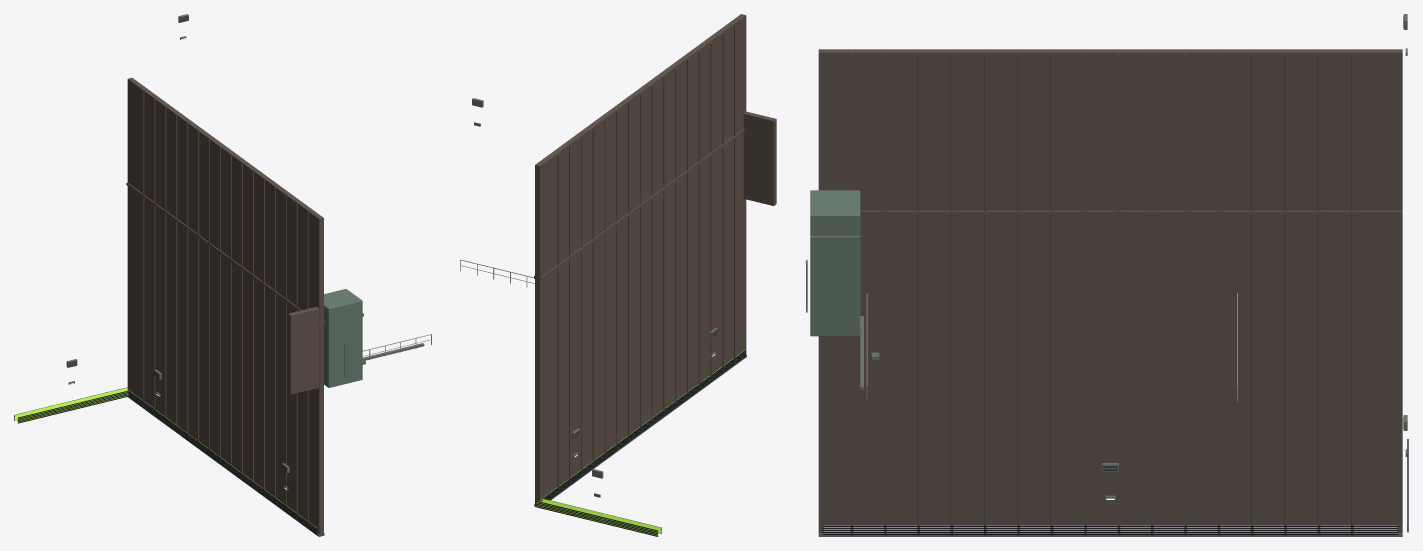
3 renders of one model, left to right at view 1: azimuth 30°, elevation 25°; view 2: azimuth 150°, elevation 25°; view 3: azimuth 270°, elevation 25°, orthographic. The views are drawn at different scales.
Parts seen in each view (by area): view 1: pm2_m5; view 2: pm2_m5; view 3: pm2_m5.
Part boxes in pixels (bbox=[...]): pm2_m5: bbox=[14, 14, 431, 536]; pm2_m5: bbox=[460, 14, 776, 536]; pm2_m5: bbox=[805, 14, 1408, 536].
Size of the model in its own units: 25.28 by 36.9 by 36.15.
